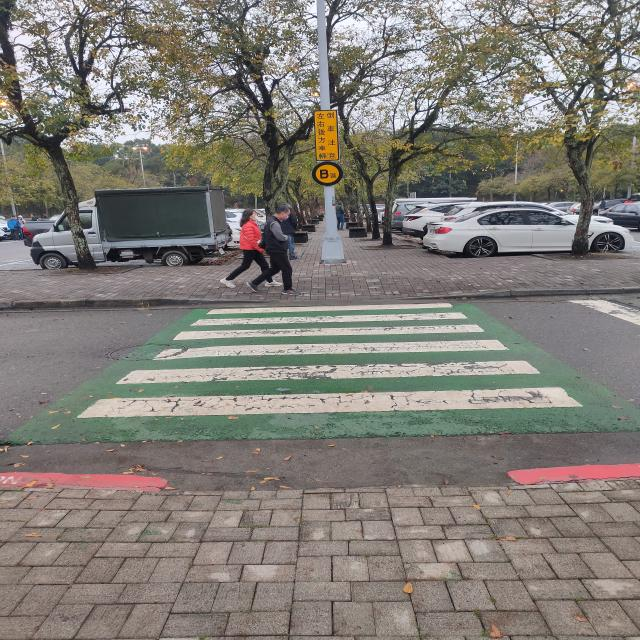person: (247, 205, 302, 296), (220, 209, 268, 288), (280, 210, 298, 260), (335, 201, 345, 230)
zebra crossing: (81, 304, 589, 416)
